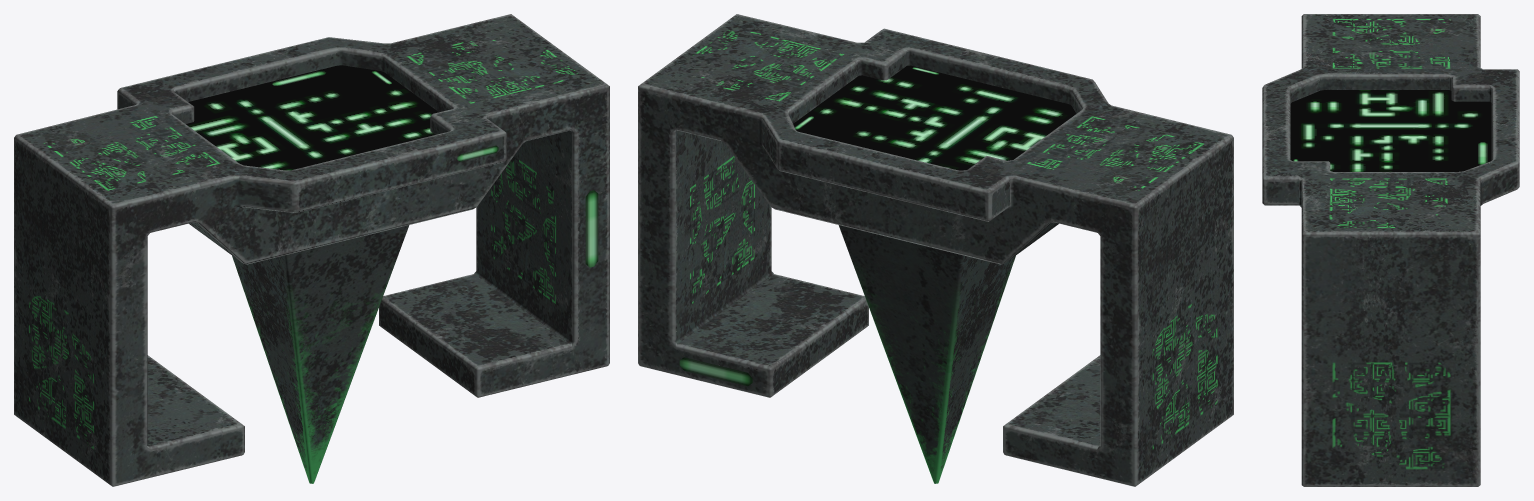
File: GenericFactor.fbx
The picture shows the model from 3 angles, left to right: view 1: azimuth 30°, elevation 25°; view 2: azimuth 150°, elevation 25°; view 3: azimuth 270°, elevation 25°; orthographic projection. The views are drawn at different scales.
Parts seen in each view (by area): view 1: Cube.006, Cube.009, Plane, Light.007; view 2: Cube.006, Cube.009, Plane, Light.006; view 3: Cube.006, Plane.
Part boxes in pixels (box(x1,y1,x2,y2)): Cube.006: box(14, 14, 609, 486); Cube.009: box(232, 225, 409, 483); Plane: box(186, 65, 438, 170); Light.007: box(585, 190, 598, 267); Cube.006: box(638, 14, 1233, 486); Cube.009: box(838, 225, 1015, 483); Plane: box(793, 65, 1076, 170); Light.006: box(679, 357, 752, 386); Cube.006: box(1262, 14, 1519, 486); Plane: box(1290, 90, 1491, 171).
Size of the model in its own units: 324 by 231 by 160.
2 materials, 2 textured.
